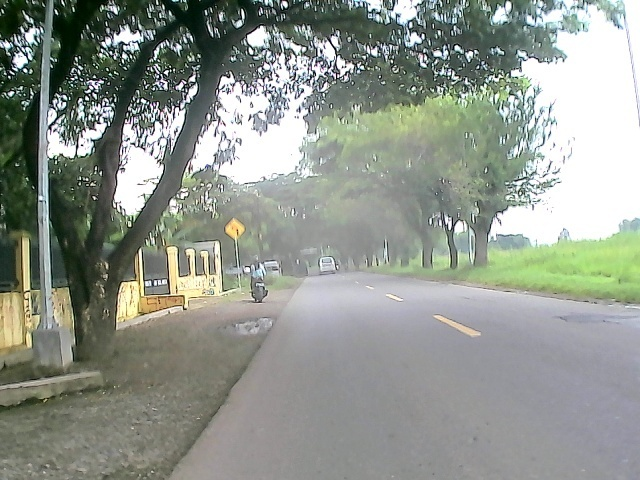Tikungan ke kiri: (220, 215, 246, 240)
